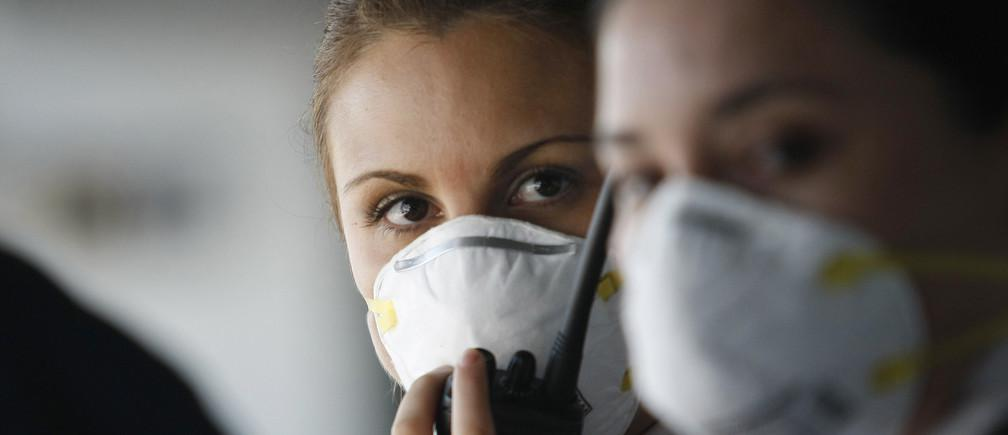OK: (596, 81, 918, 414), (329, 139, 639, 410)
